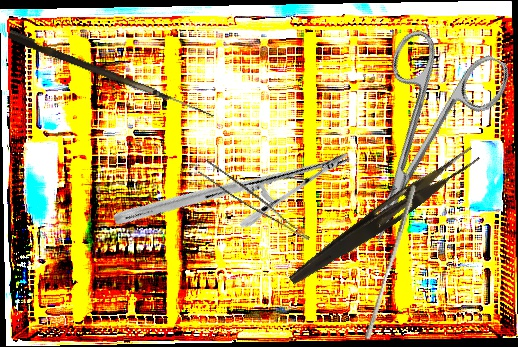Dressing Forceps: (286, 139, 481, 295)
Hook Surgical: (6, 29, 218, 118)
Iris Scissors: (316, 17, 516, 263)
Needle Holder: (110, 68, 354, 309)
Pusher: (363, 182, 418, 342)
Tissue Forceps: (195, 159, 318, 241)
